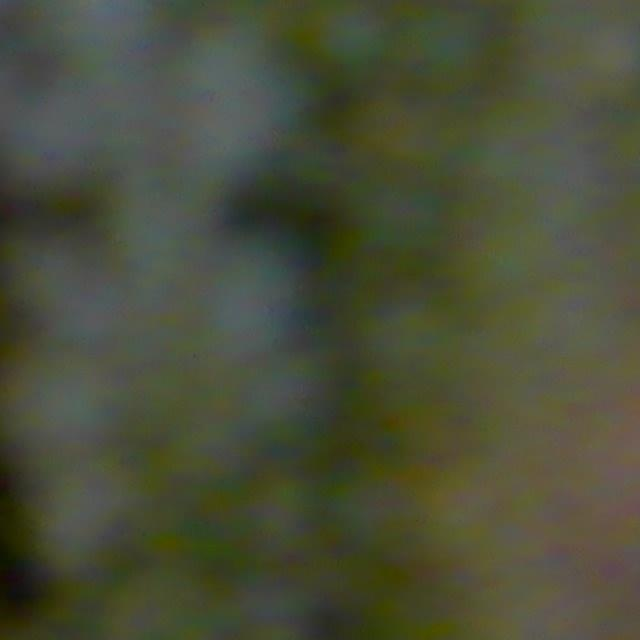SeaGrape: (0, 351, 117, 460), (22, 465, 140, 569), (195, 28, 290, 151), (9, 83, 100, 187), (64, 0, 182, 70), (218, 242, 286, 347), (308, 0, 396, 78), (259, 346, 336, 433), (13, 237, 86, 319)
